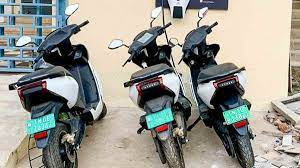Number plates: (142, 105, 176, 130), (220, 103, 253, 126)
